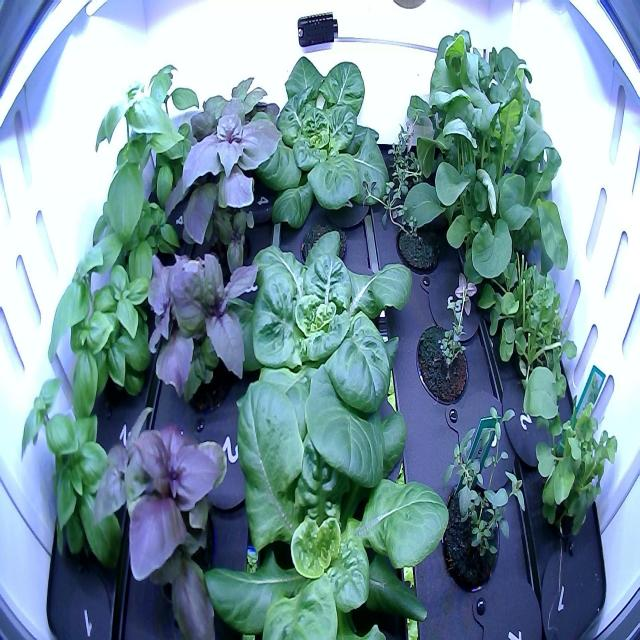young: (196, 366, 456, 638), (205, 222, 417, 502), (247, 45, 394, 237)
